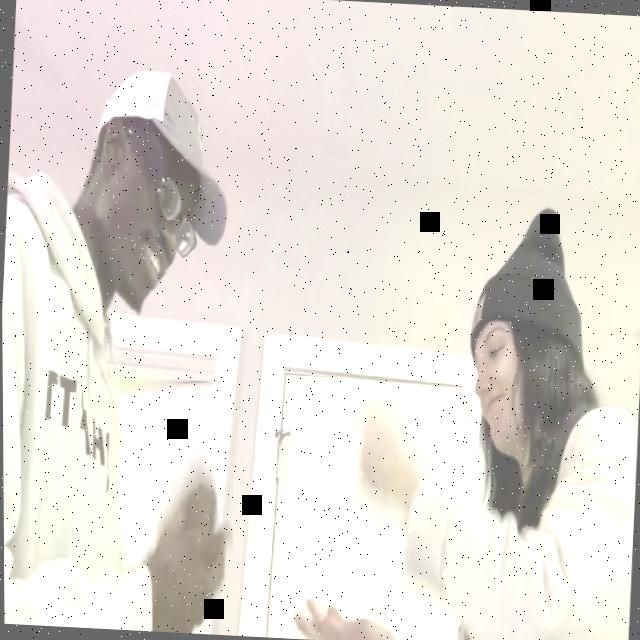Rock: (353, 411, 420, 507), (170, 463, 216, 538)
